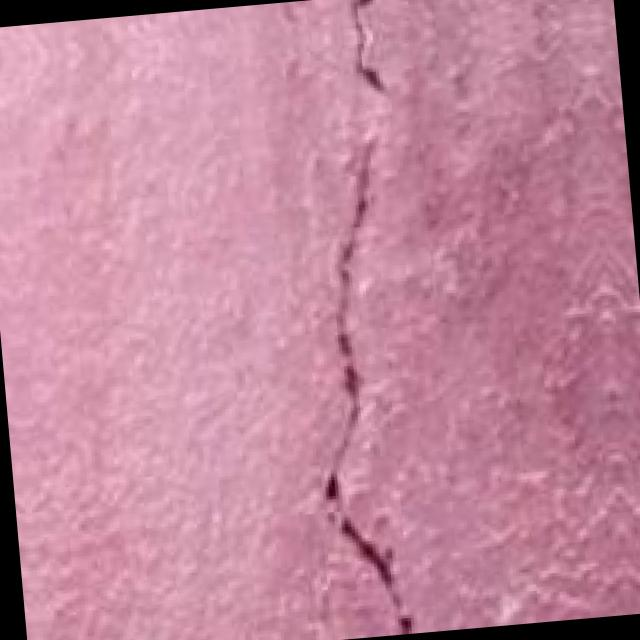crack: (253, 0, 449, 639)
